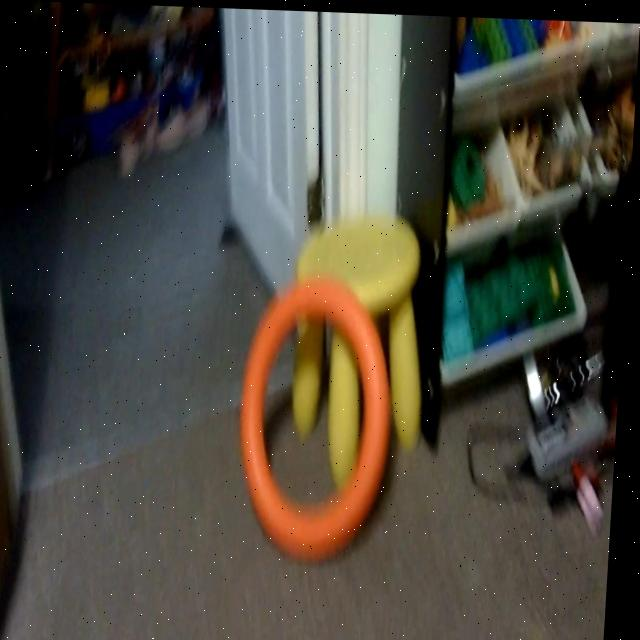note: (237, 269, 403, 568)
